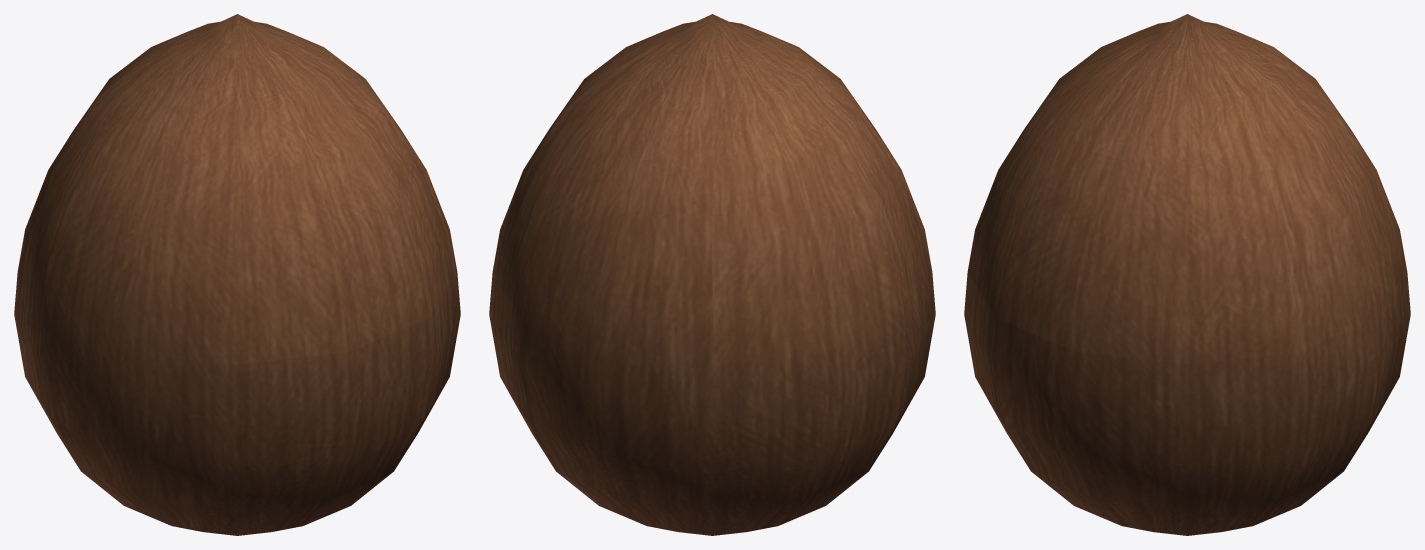
The model's file is Coconut.fbx.
3 views of the same model, side by side, from view 1: azimuth 30°, elevation 25°; view 2: azimuth 150°, elevation 25°; view 3: azimuth 270°, elevation 25° (orthographic).
Parts seen in each view (by area): view 1: Coconut_Half_Top, Coconut_Whole, Coconut_Half_Bottom; view 2: Coconut_Whole, Coconut_Half_Top, Coconut_Half_Bottom; view 3: Coconut_Half_Top, Coconut_Half_Bottom, Coconut_Whole.
Boxes of the visible parts, left/top/right/bottom form: Coconut_Half_Top: left=23, top=14, right=450, bottom=364; Coconut_Whole: left=14, top=17, right=460, bottom=535; Coconut_Half_Bottom: left=46, top=274, right=460, bottom=535; Coconut_Whole: left=492, top=15, right=935, bottom=535; Coconut_Half_Top: left=498, top=14, right=925, bottom=364; Coconut_Half_Bottom: left=489, top=272, right=909, bottom=535; Coconut_Half_Top: left=967, top=14, right=1407, bottom=364; Coconut_Half_Bottom: left=964, top=272, right=1407, bottom=535; Coconut_Whole: left=976, top=35, right=1410, bottom=521.
Size of the model in its own units: 1.88 by 2.33 by 1.88.
